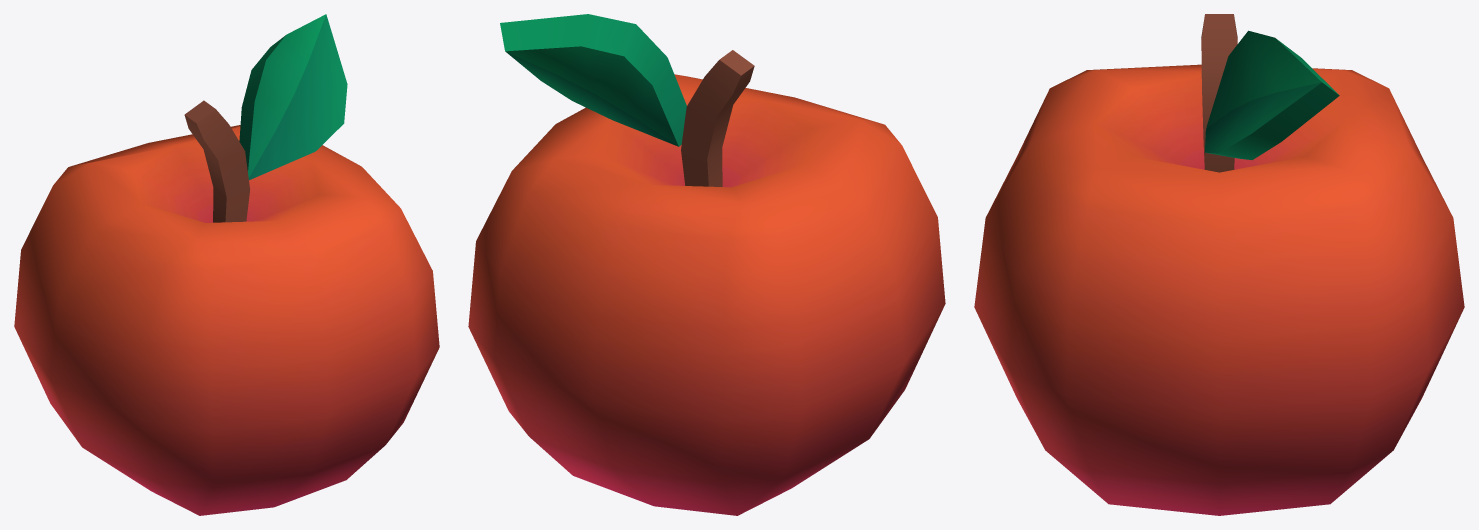
Rendered from food_apple_red.glb.
3 renders of one model, left to right at view 1: azimuth 30°, elevation 25°; view 2: azimuth 150°, elevation 25°; view 3: azimuth 270°, elevation 25°, orthographic. The views are drawn at different scales.
Visible parts, largest first — view 1: Food_Apple_Red; view 2: Food_Apple_Red; view 3: Food_Apple_Red.
Boxes of the visible parts, box(x1,y1,x2,y2) form: Food_Apple_Red: box(14, 14, 439, 515); Food_Apple_Red: box(468, 14, 945, 515); Food_Apple_Red: box(974, 14, 1464, 515).
Bounding box in the file's own units: 0.45 × 0.5 × 0.45.
1 material, 1 textured.
